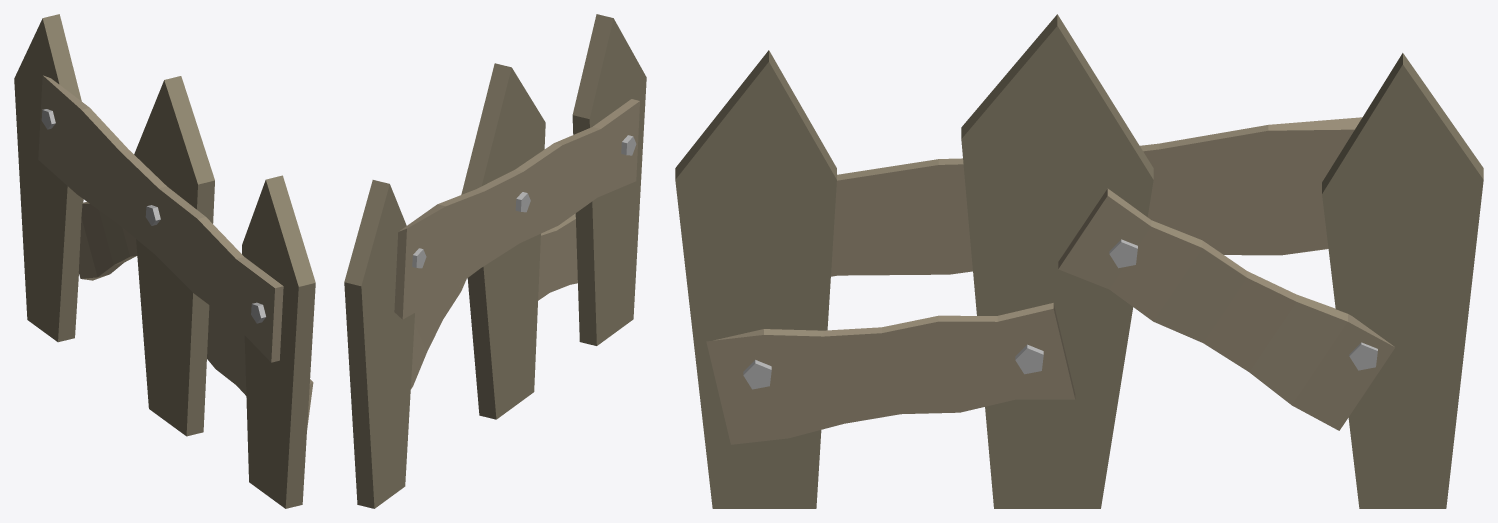
File: Fence_Quest_Blocked.fbx
3 views of the same model, side by side, from view 1: azimuth 30°, elevation 25°; view 2: azimuth 150°, elevation 25°; view 3: azimuth 270°, elevation 25° (orthographic). The views are drawn at different scales.
Visible parts, largest first — view 1: Fence_quest_blocked; view 2: Fence_quest_blocked; view 3: Fence_quest_blocked.
Part boxes in pixels (x1=…): Fence_quest_blocked: x1=14, y1=14, x2=315, y2=508; Fence_quest_blocked: x1=344, y1=14, x2=646, y2=508; Fence_quest_blocked: x1=675, y1=14, x2=1483, y2=508.
Size of the model in its own units: 0.5276 by 3.81 by 5.78.
